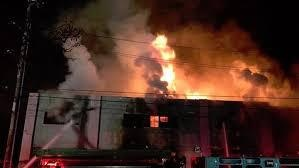fire: (150, 34, 177, 91)
